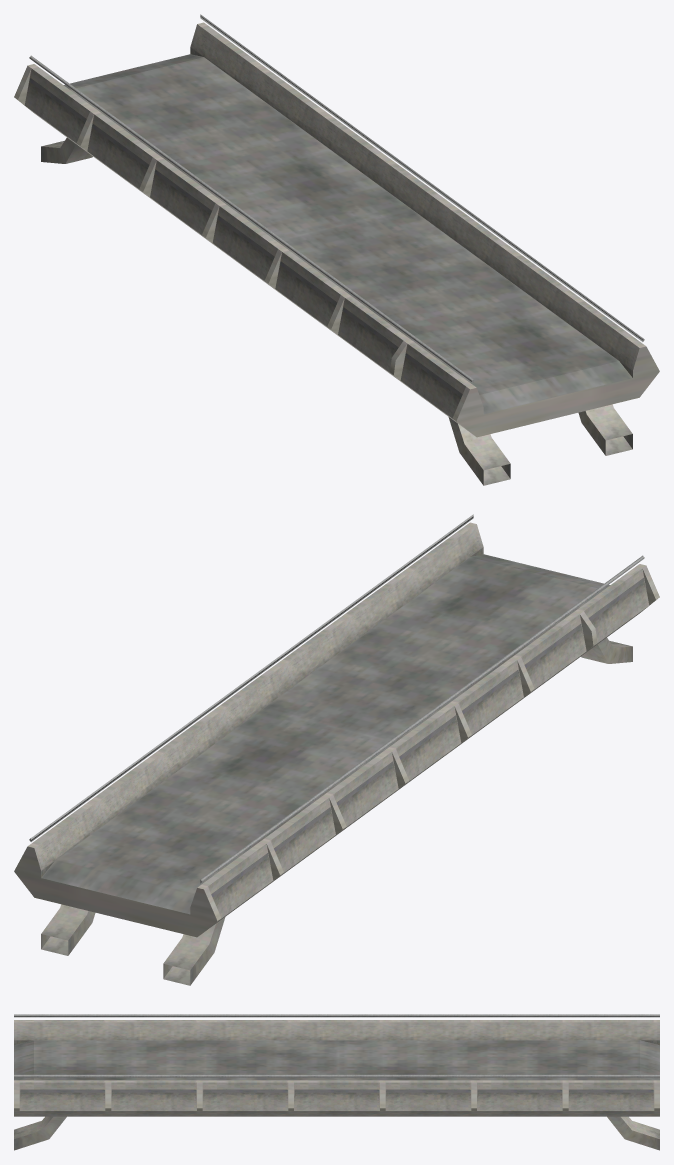
Rendered from thm_corl_imprv_bridge_lg_s02_l2.fbx.
The picture shows the model from 3 angles, top to bottom: view 1: azimuth 30°, elevation 25°; view 2: azimuth 150°, elevation 25°; view 3: azimuth 270°, elevation 25°; orthographic projection. The views are drawn at different scales.
Parts seen in each view (by area): view 1: mesh_node; view 2: mesh_node; view 3: mesh_node.
Boxes of the visible parts, x1=… form: mesh_node: x1=14, y1=14, x2=659, y2=485; mesh_node: x1=14, y1=514, x2=659, y2=985; mesh_node: x1=14, y1=1014, x2=659, y2=1150.
Size of the model in its own units: 7.5 by 3.84 by 28.25.
1 material, 1 textured.
